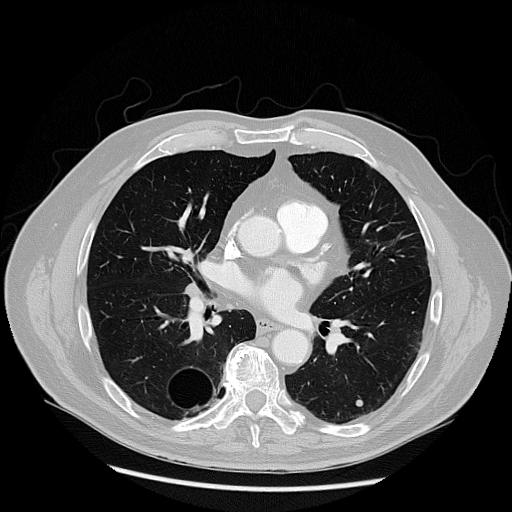nodule: (352, 396, 365, 409)
